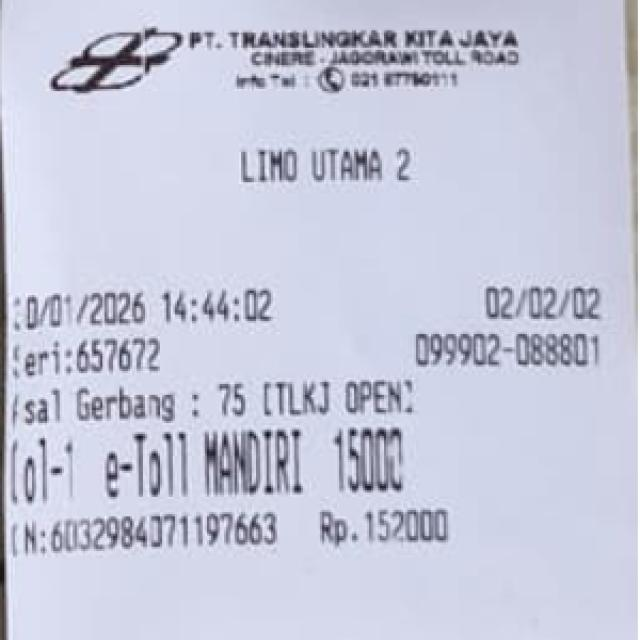date: (0, 290, 291, 327)
store: (182, 23, 530, 74)
total: (328, 425, 414, 492)
